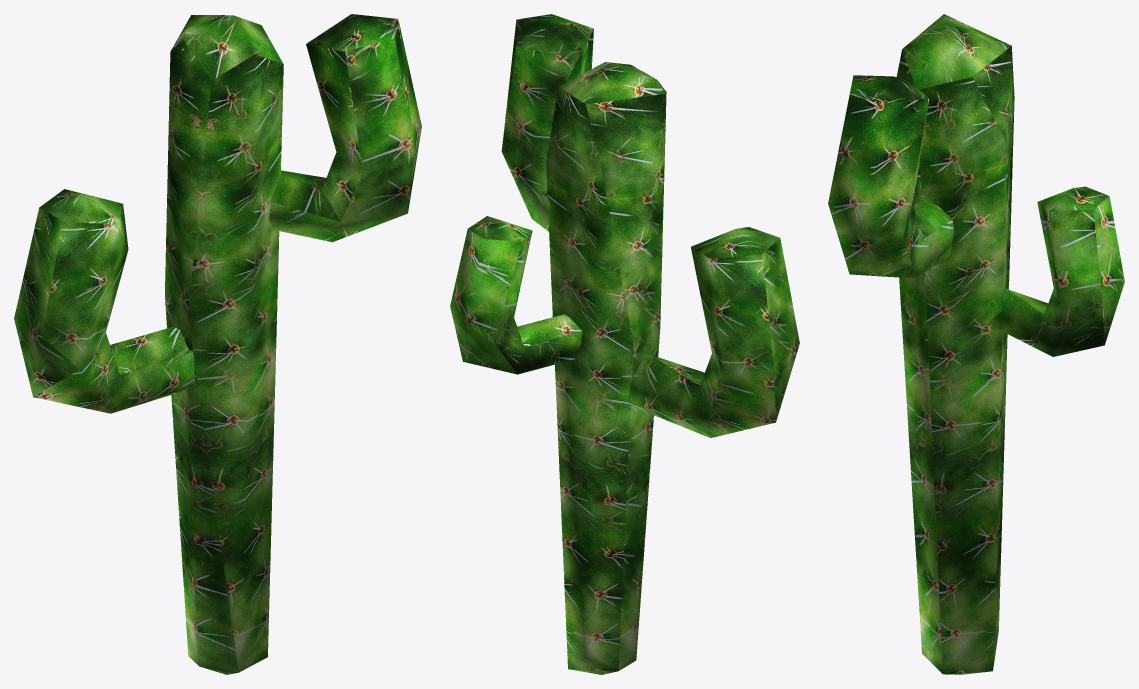
File: cactus.fbx
3 renders of one model, left to right at view 1: azimuth 30°, elevation 25°; view 2: azimuth 150°, elevation 25°; view 3: azimuth 270°, elevation 25°, orthographic. The views are drawn at different scales.
Visible parts, largest first — view 1: cactus; view 2: cactus; view 3: cactus.
Boxes of the visible parts, x1,y1,x2,y2 form: cactus: [14, 14, 421, 674]; cactus: [450, 14, 799, 674]; cactus: [828, 14, 1124, 674].
Size of the model in its own units: 897 by 1628 by 680.
1 material, 1 textured.
